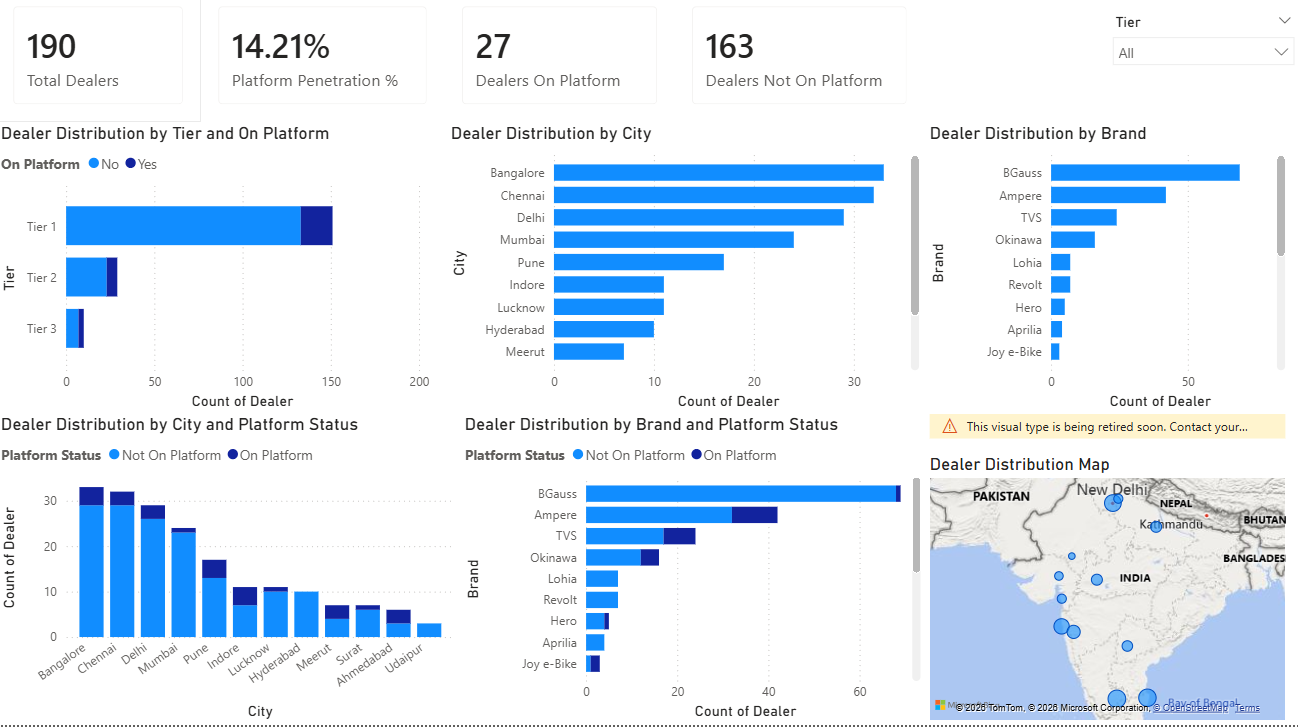

The dashboard page shown, as its layout file describes it:
{"tool":"powerbi","page":{"name":"Overview","canvas":[1280,720],"ordinal":0},"visuals":[{"type":"cardVisual","fields":{"Data":["Dealers.Total Dealers"]},"box":[0,0,200,130],"z":0},{"type":"cardVisual","fields":{"Data":["Dealers.Dealers On Platform"]},"box":[439.1,0,225,130.4],"z":1000},{"type":"cardVisual","fields":{"Data":["Dealers.Dealers Not On Platform"]},"box":[664.2,0,244.3,130.4],"z":2000},{"type":"cardVisual","fields":{"Data":["Dealers.Platform Penetration %"]},"box":[200.3,0,238.8,130.4],"z":3000},{"type":"barChart","title":"Dealer Distribution  by Tier and On Platform","fields":{"Category":["Dealers.Tier"],"Y":["CountNonNull(Dealers.Dealer)"],"Series":["Dealers.On Platform"]},"box":[0,130.4,429,285.1],"z":4000},{"type":"clusteredBarChart","title":"Dealer Distribution by City","fields":{"Category":["Dealers.City"],"Y":["CountNonNull(Dealers.Dealer)"]},"box":[439.8,130.4,468,285.1],"z":5000},{"type":"columnChart","title":"Dealer Distribution by City and Platform Status","fields":{"Category":["Dealers.City"],"Y":["CountNonNull(Dealers.Dealer)"],"Series":["Dealers.Platform Status"]},"box":[0,415.6,453.2,303.9],"z":6000},{"type":"slicer","fields":{"Values":["Dealers.Tier"]},"box":[1082.6,18.8,197.7,95.5],"z":7000},{"type":"barChart","title":"Dealer Distribution by Brand","fields":{"Category":["Dealers.Brand"],"Y":["CountNonNull(Dealers.Dealer)"]},"box":[909.1,130.4,357.7,285.1],"z":8000},{"type":"barChart","title":"Dealer Distribution by Brand and Platform Status","fields":{"Category":["Dealers.Brand"],"Y":["CountNonNull(Dealers.Dealer)"],"Series":["Dealers.Platform Status"]},"box":[453.2,415.6,455.9,303.9],"z":9000},{"type":"map","title":"Dealer Distribution Map","fields":{"Category":["Dealers.City"],"Size":["CountNonNull(Dealers.Dealer)"]},"box":[909,416,358,304],"z":10000}]}

Visuals, with their boxes in screenshot pixels (x1, y1, x2, y2), scaled from the page's 1280x720 canvas onto the 1298x727 screenshot:
cardVisual - Dealers.Total Dealers: 0,0,203,131
cardVisual - Dealers.Dealers On Platform: 445,0,673,132
cardVisual - Dealers.Dealers Not On Platform: 674,0,921,132
cardVisual - Dealers.Platform Penetration %: 203,0,445,132
"Dealer Distribution  by Tier and On Platform" barChart: 0,132,435,420
"Dealer Distribution by City" clusteredBarChart: 446,132,921,420
"Dealer Distribution by City and Platform Status" columnChart: 0,420,460,726
slicer - Dealers.Tier: 1098,19,1297,115
"Dealer Distribution by Brand" barChart: 922,132,1285,420
"Dealer Distribution by Brand and Platform Status" barChart: 460,420,922,726
"Dealer Distribution Map" map: 922,420,1285,726
